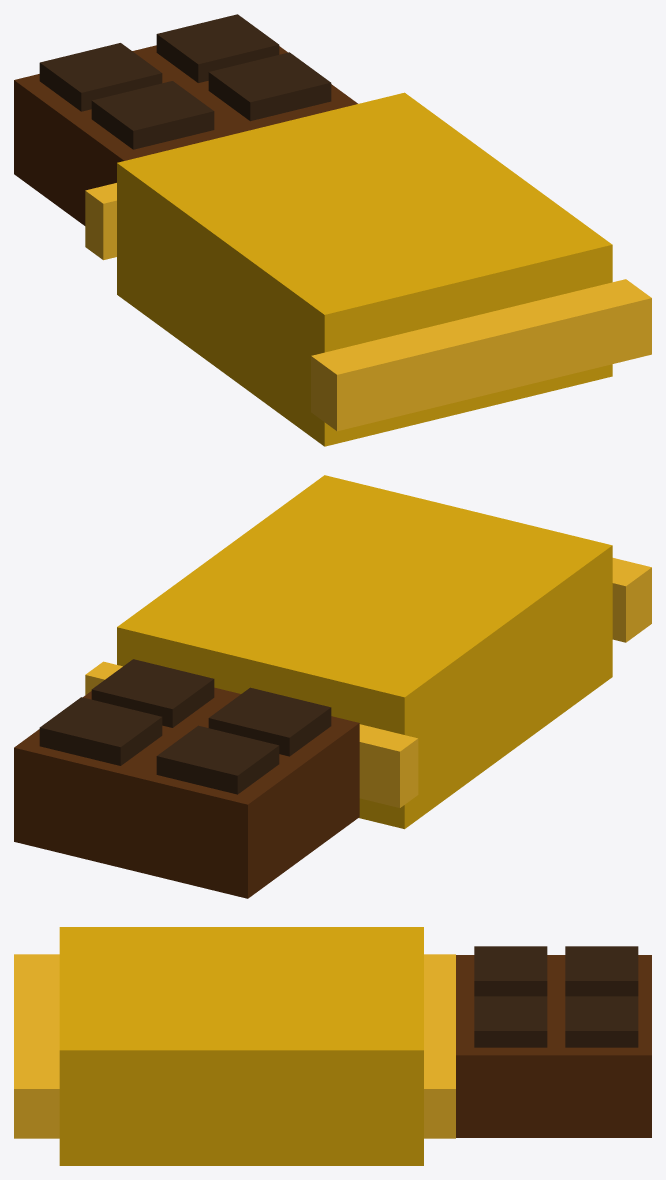
Rendered from bar.fbx.
3 renders of one model, top to bottom at view 1: azimuth 30°, elevation 25°; view 2: azimuth 150°, elevation 25°; view 3: azimuth 270°, elevation 25°, orthographic. The views are drawn at different scales.
Visible parts, largest first — view 1: Bar; view 2: Bar; view 3: Bar.
Boxes of the visible parts, <box> form: Bar: <box>14,14,651,446</box>; Bar: <box>14,475,651,898</box>; Bar: <box>14,927,651,1165</box>.
Bounding box in the file's own units: 70 × 28 × 140.
